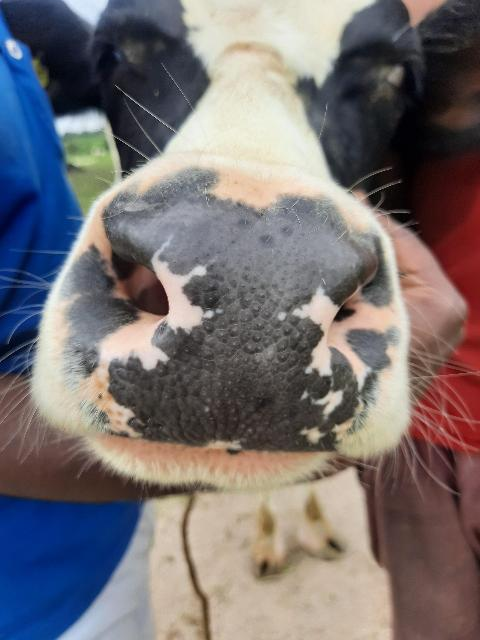Muzzle: (113, 204, 359, 446)
